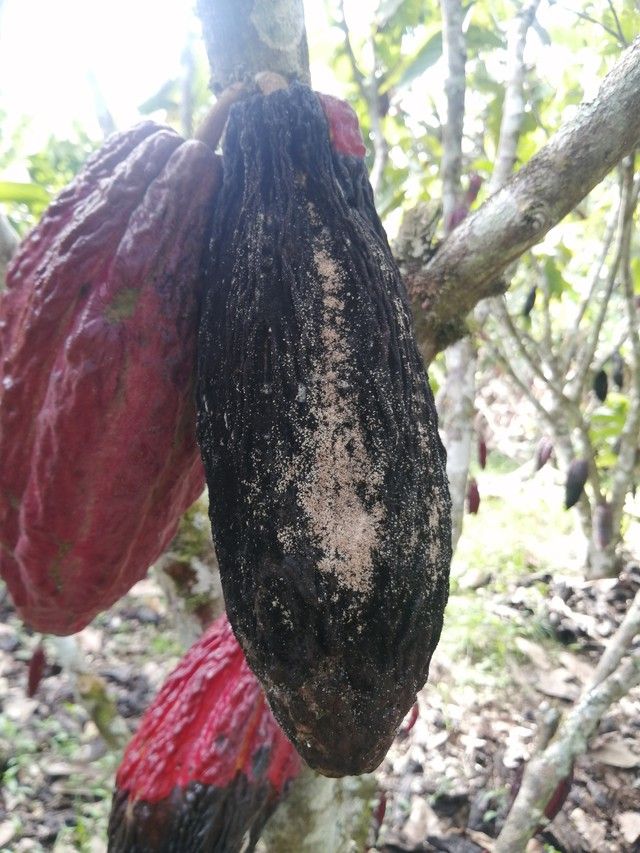moniliophthora roreri: (181, 73, 467, 789), (0, 98, 243, 645)
